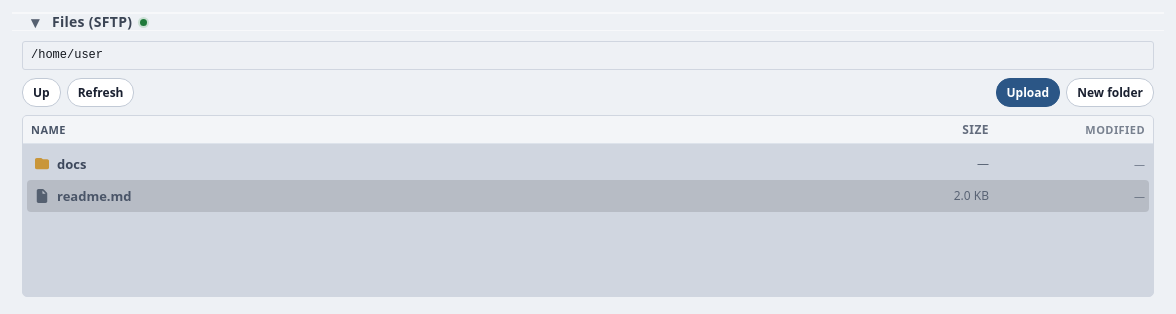
SftpPanel listing › navigates when an absolute path is submitted from the path field
Expected: the text "docs" is shown, x1=35 y1=155 x2=86 y2=173
Replace the text in the field named "Directory" with "/etc": (588, 55) x1=22 y1=41 x2=1154 y2=70
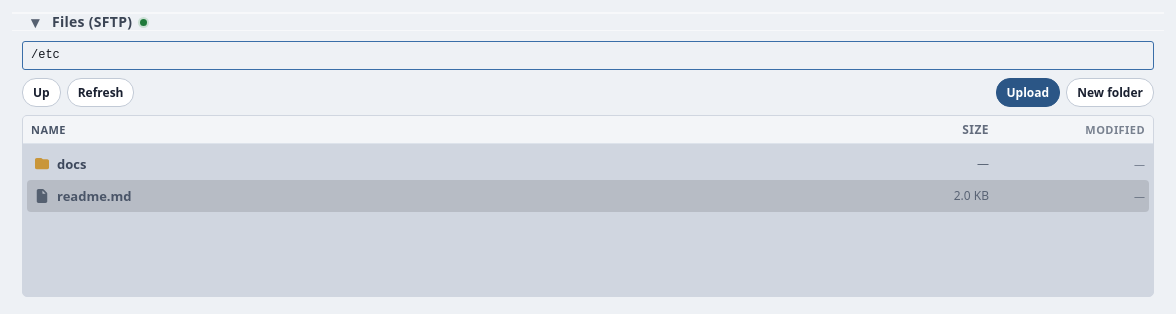
Press Enter
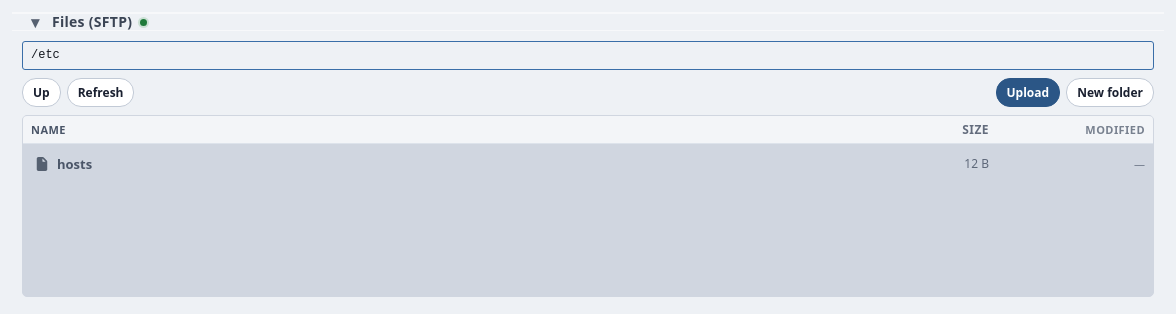
Result: the text "hosts" is shown at x1=35 y1=155 x2=92 y2=173
